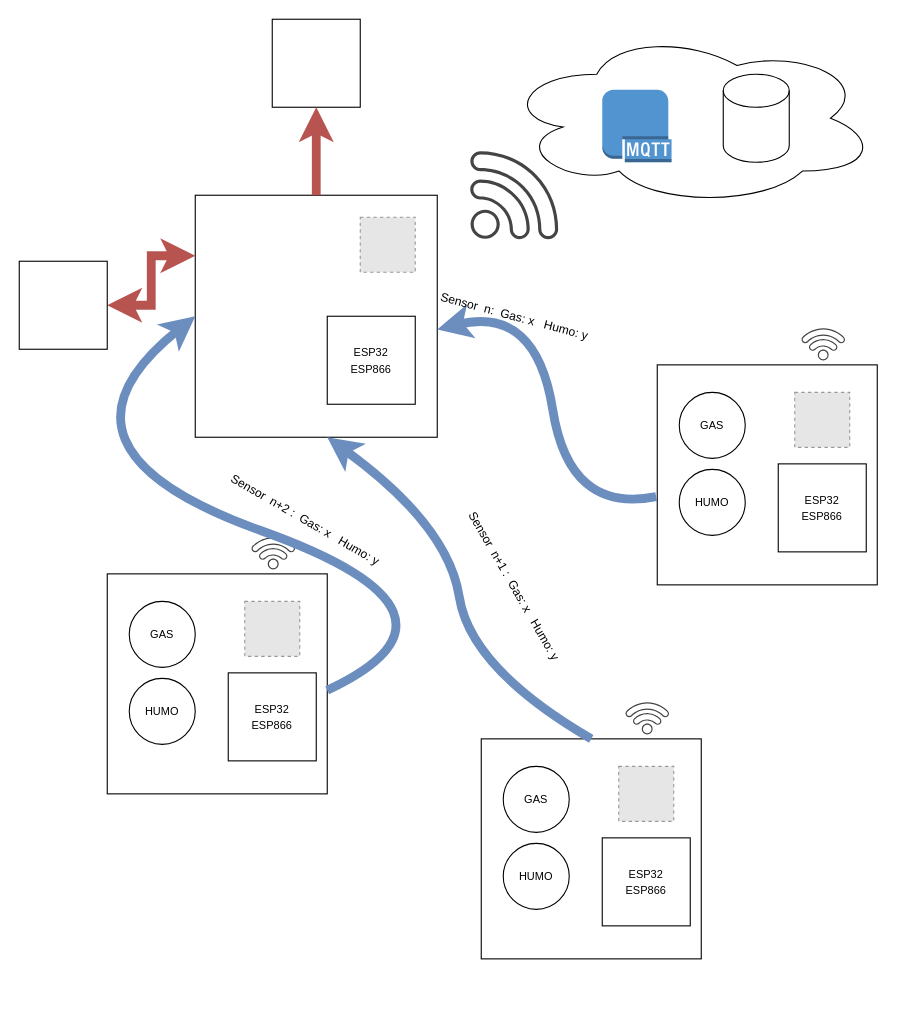
The diagram is 897 pixels wide and 1033 high, and some of its shapes have lost their labels. Grey dashed boxes stand in for pictures. The box of each missing label's shape, as (x1, y1, x2, y2) in pixels:
ACCESO A USUARIOS: (18, 260, 107, 349)
VÁLVULA DE CONTROL DE GAS: (271, 18, 360, 107)
